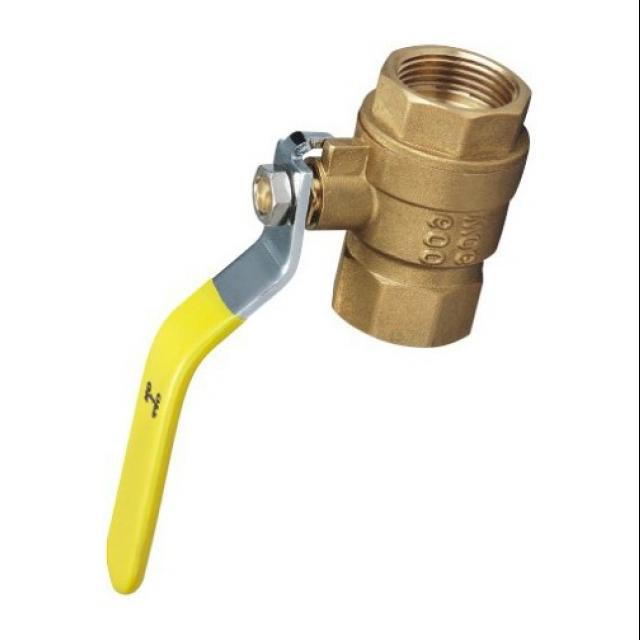opened valve: (103, 42, 535, 598)
